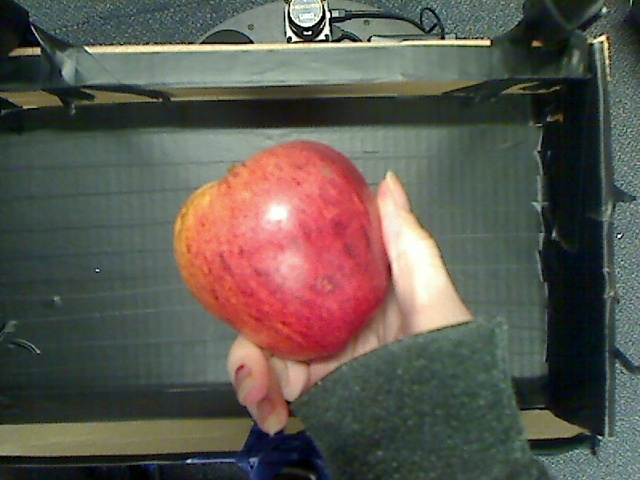apple: (160, 117, 404, 374)
